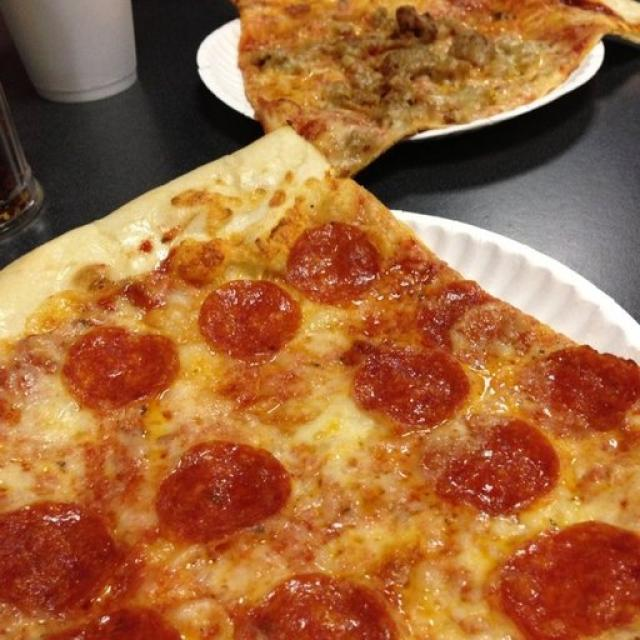Beef: (346, 44, 435, 90), (396, 9, 436, 43), (456, 32, 491, 66)
Pepperoni: (498, 523, 636, 640), (158, 450, 284, 540), (0, 510, 117, 602), (442, 422, 552, 511), (67, 326, 177, 409), (256, 575, 392, 640), (200, 276, 299, 361), (544, 346, 640, 426), (356, 352, 471, 416), (290, 221, 380, 301), (80, 602, 178, 640)
Pizza: (0, 128, 640, 640), (234, 0, 640, 179)
